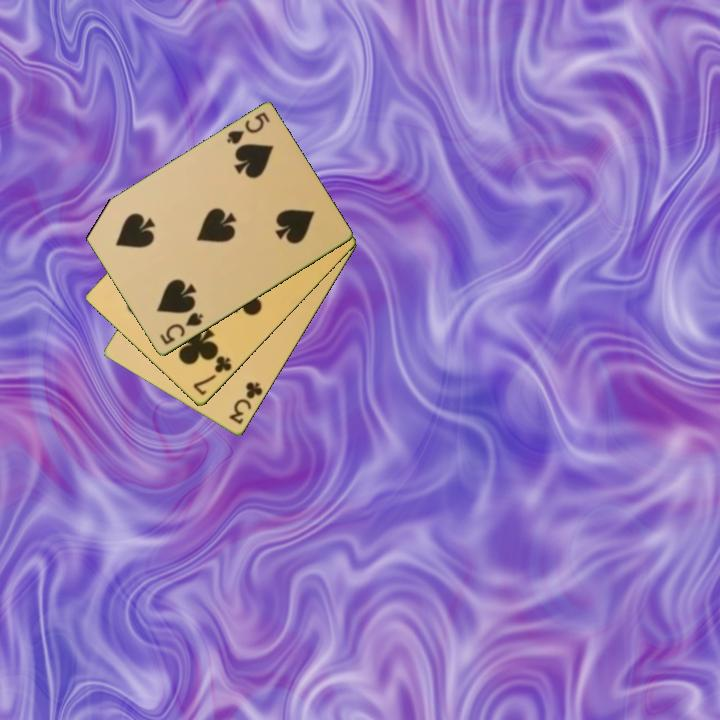3c: (225, 378, 266, 427)
5s: (156, 309, 206, 348), (223, 109, 273, 148)
7c: (189, 352, 235, 399)
